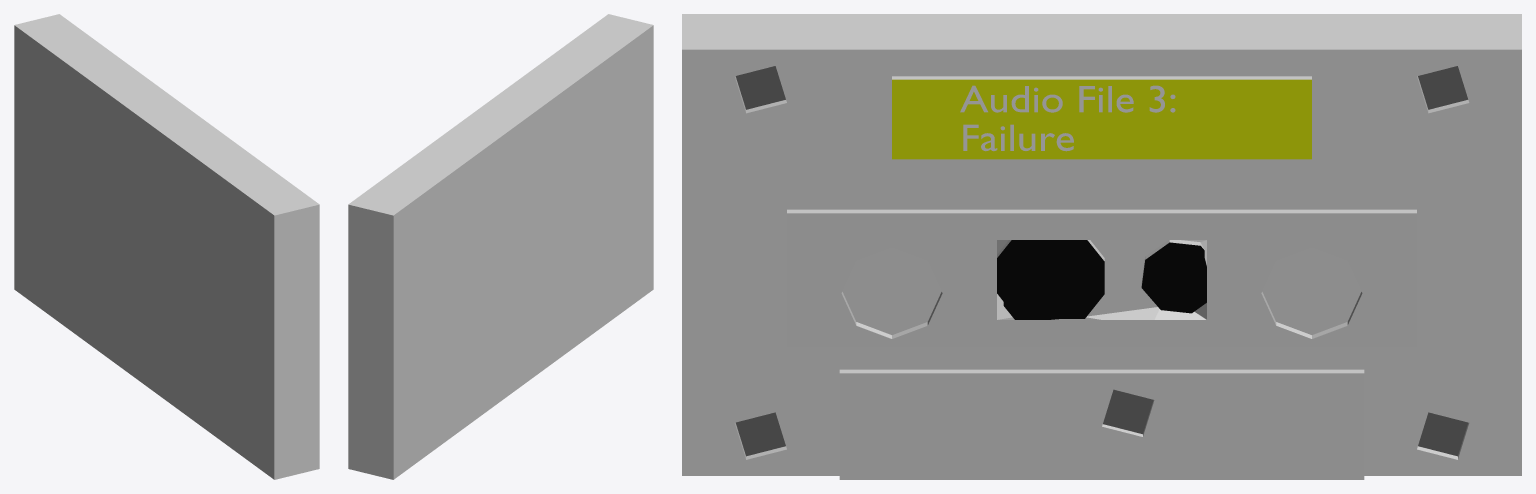
The model's file is Cassette Tape 3.fbx.
3 renders of one model, left to right at view 1: azimuth 30°, elevation 25°; view 2: azimuth 150°, elevation 25°; view 3: azimuth 270°, elevation 25°, orthographic. The views are drawn at different scales.
Parts seen in each view (by area): view 1: Cube; view 2: Cube; view 3: Cube, Text.
Part boxes in pixels (x1,y1,x2,y2): Cube: (14, 14, 319, 479); Cube: (348, 14, 653, 479); Cube: (682, 14, 1521, 479); Text: (960, 85, 1175, 151).
Size of the model in its own units: 65.87 by 331 by 591.
